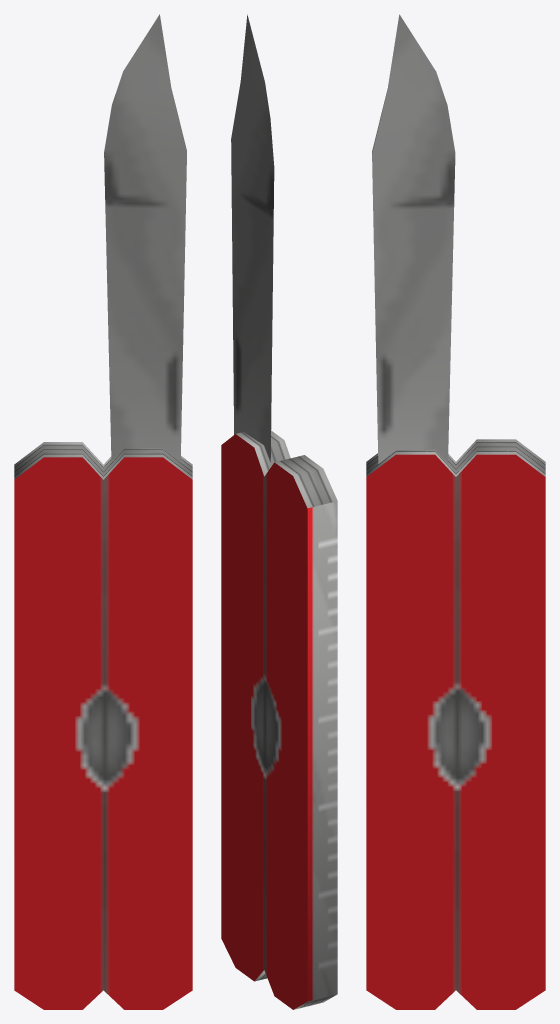
Rendered from Swiss.fbx.
3 renders of one model, left to right at view 1: azimuth 90°, elevation 25°; view 2: azimuth 210°, elevation 25°; view 3: azimuth 270°, elevation 25°, orthographic. The views are drawn at different scales.
Parts seen in each view (by area): view 1: node_cb4fcdb7_3e3f_49e5_a401_6a23194640d2_mesh0; view 2: node_cb4fcdb7_3e3f_49e5_a401_6a23194640d2_mesh0; view 3: node_cb4fcdb7_3e3f_49e5_a401_6a23194640d2_mesh0.
Part boxes in pixels (x1,y1,x2,y2): node_cb4fcdb7_3e3f_49e5_a401_6a23194640d2_mesh0: [14, 14, 192, 1009]; node_cb4fcdb7_3e3f_49e5_a401_6a23194640d2_mesh0: [221, 14, 337, 1009]; node_cb4fcdb7_3e3f_49e5_a401_6a23194640d2_mesh0: [366, 14, 545, 1009].
Bounding box in the file's own units: 0.00647 × 0.1947 × 0.032.
